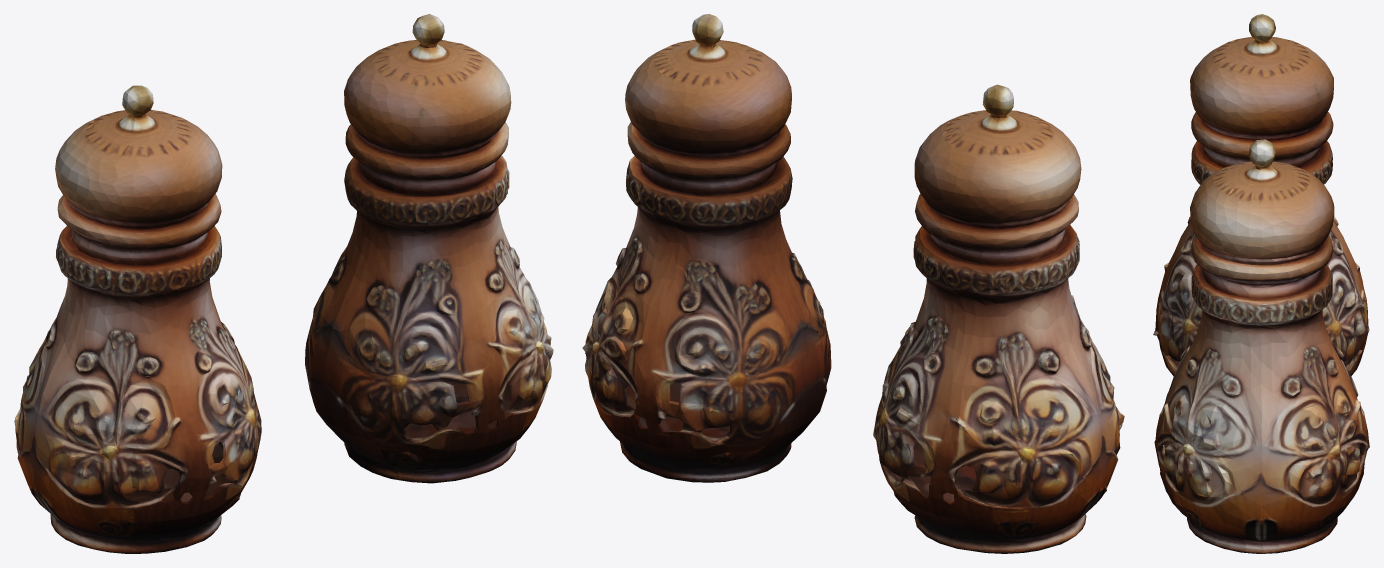
The model's file is wooden-salt-and-pepper-shaker-3d.jpeg.glb.
3 renders of one model, left to right at view 1: azimuth 30°, elevation 25°; view 2: azimuth 150°, elevation 25°; view 3: azimuth 270°, elevation 25°, orthographic. The views are drawn at different scales.
Visible parts, largest first — view 1: world; view 2: world; view 3: world.
Part boxes in pixels (x1,y1,x2,y2): world: (14, 14, 553, 553); world: (582, 14, 1124, 553); world: (1153, 14, 1369, 553).
Bounding box in the file's own units: 0.9981 × 0.8255 × 0.4254.
Materials: 1 (1 with a texture image).
